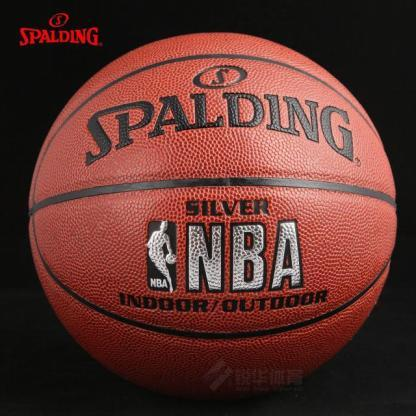basketball: (29, 32, 397, 398)
